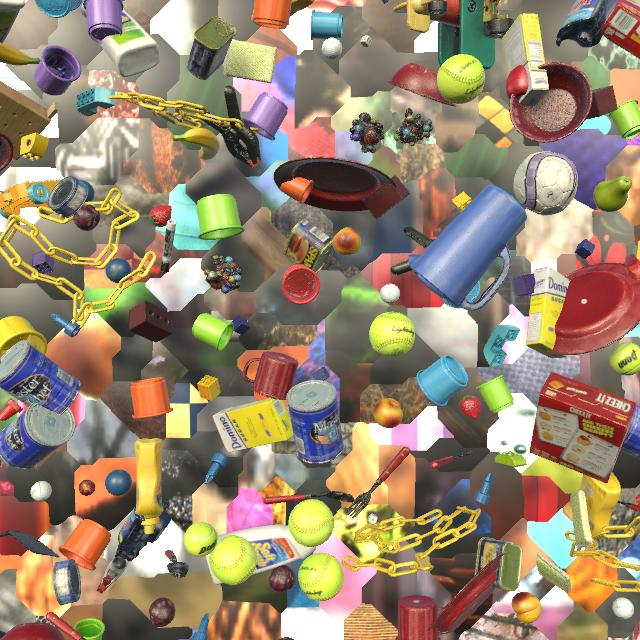ycb_002_master_chef_can: (0, 340, 81, 415), (0, 402, 75, 469), (286, 380, 344, 464), (620, 404, 640, 459)
ycb_003_cracker_box: (529, 372, 636, 484), (602, 0, 640, 59)
ycb_004_sugar_box: (502, 13, 549, 106), (213, 398, 293, 452), (526, 267, 570, 358)
ycb_006_mustard_bottle: (573, 473, 621, 539), (135, 438, 163, 534), (251, 0, 315, 23)
ycb_007_tuna_fish_can: (48, 176, 89, 218), (53, 559, 81, 606)
ycb_009_gelatin_box: (634, 621, 640, 640)
ycb_010_potted_meat_can: (186, 17, 237, 80), (283, 219, 334, 273), (474, 537, 523, 591)
ycb_011_banana: (172, 128, 220, 160), (0, 43, 41, 65)
ycb_012_strawberry: (459, 395, 481, 420), (149, 205, 172, 227)
ycb_013_apple: (506, 65, 529, 100)
ycb_015_peach: (512, 592, 541, 623), (374, 398, 403, 428), (332, 227, 361, 256)
ycb_016_pear: (593, 176, 632, 212)
ycb_018_plum: (149, 597, 175, 627), (268, 565, 296, 592), (73, 204, 101, 231), (279, 637, 294, 640)
